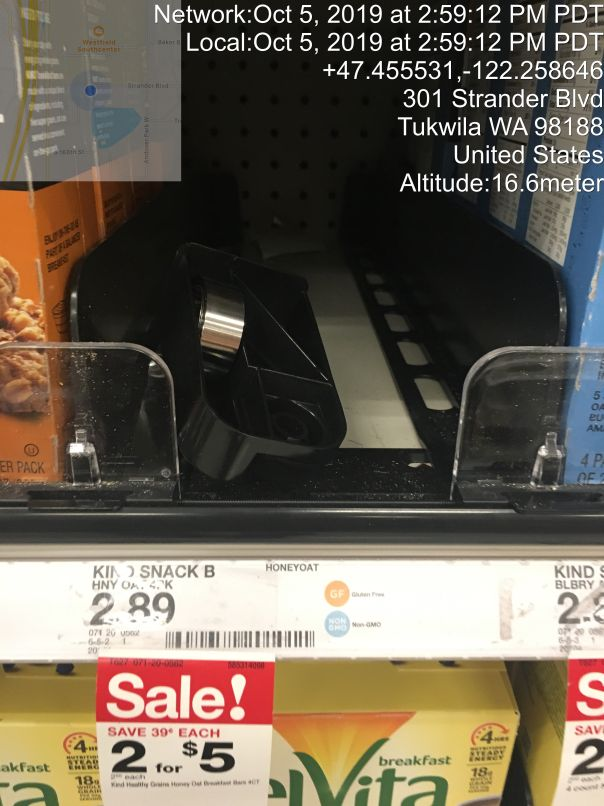Label: (81, 554, 390, 664)
Location: (387, 84, 604, 167)
Time: (151, 1, 604, 61)
Void: (119, 82, 438, 473)
